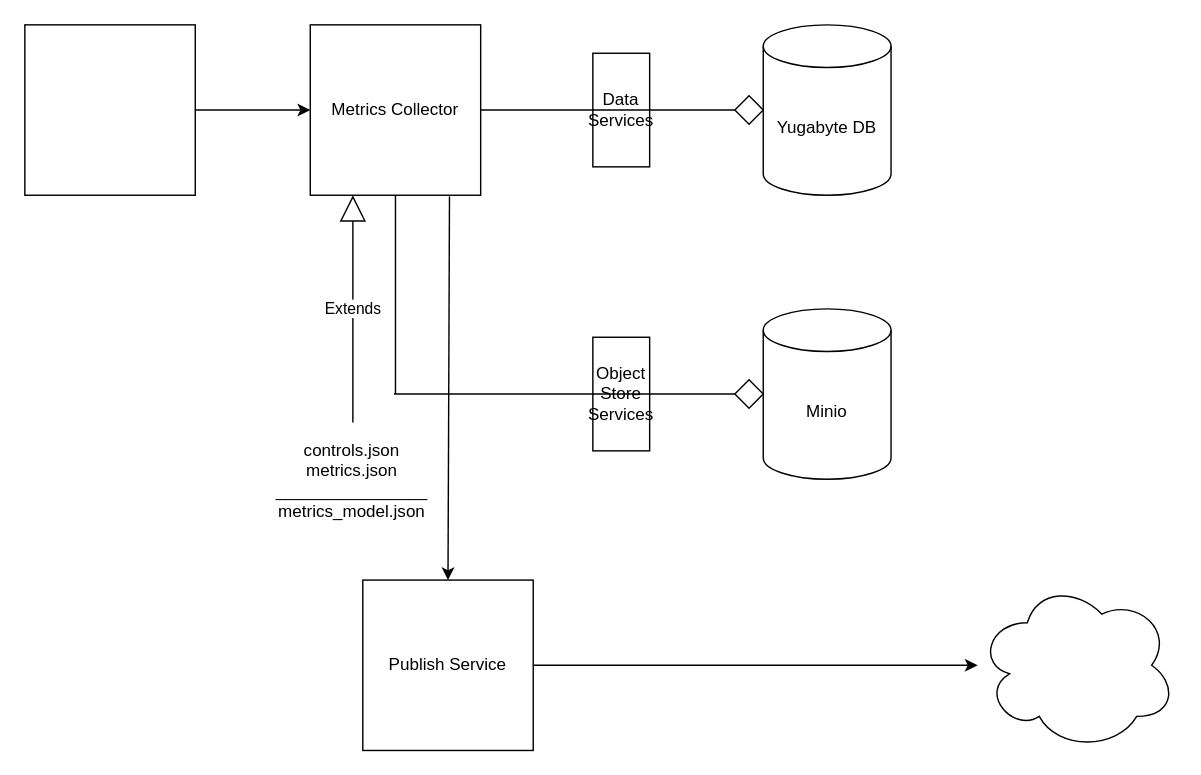
Some shapes in this 1201 by 775 pixel diagram are drawn without their labels. Here are the shapes that lost their labels. From the top down, the box of each, then its label:
(23, 23, 195, 195): API Server
(976, 579, 1176, 750): CSA STAR
